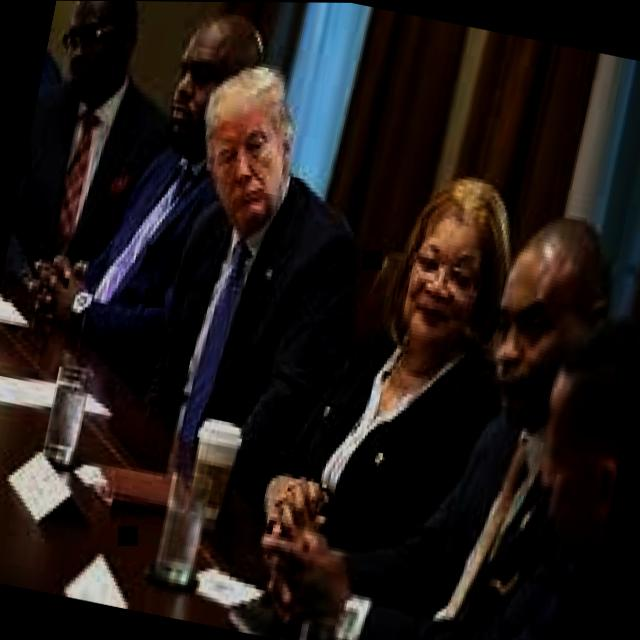NO-Mask: (479, 266, 574, 431), (520, 386, 602, 560), (200, 106, 296, 240), (395, 223, 489, 356), (162, 23, 230, 164), (54, 0, 126, 107)
